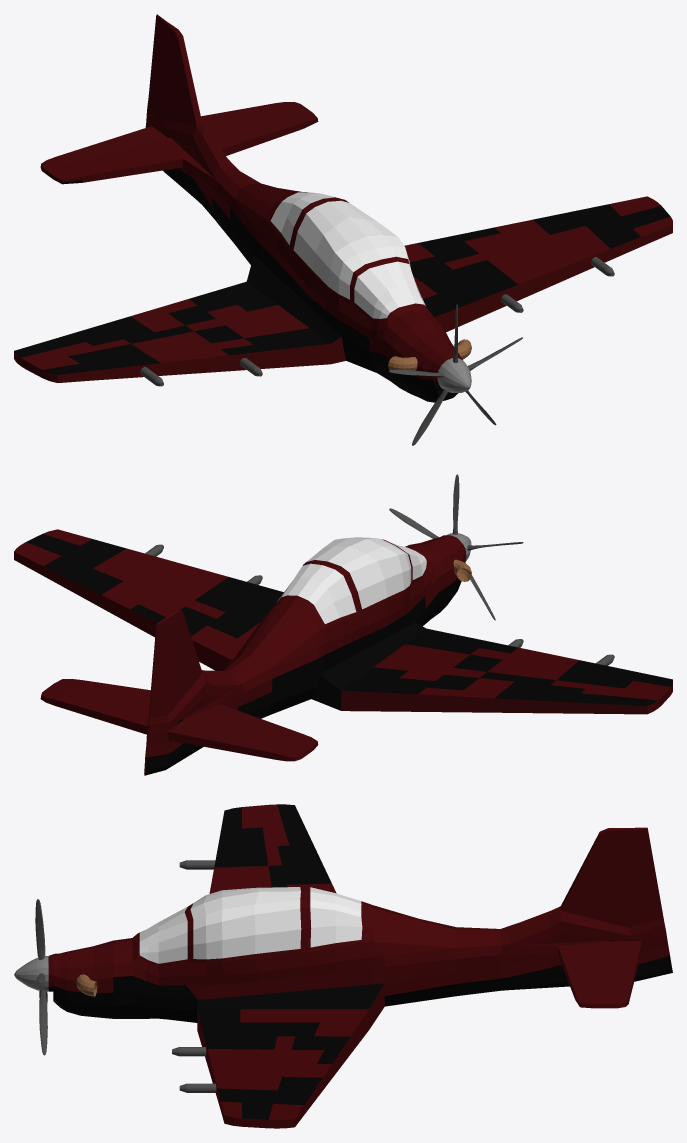
The model's file is Tucaninho player 2.fbx.
The picture shows the model from 3 angles, top to bottom: view 1: azimuth 30°, elevation 25°; view 2: azimuth 150°, elevation 25°; view 3: azimuth 270°, elevation 25°; orthographic projection.
Visible parts, largest first — view 1: BODY, VIDRO, propeler.004, arma, propeler engine; view 2: BODY, VIDRO, propeler.004, arma; view 3: BODY, VIDRO, propeler.004, arma, propeler engine.
Boxes of the visible parts, <box> form: BODY: <box>14,14,672,402</box>; VIDRO: <box>270,192,425,318</box>; propeler.004: <box>389,304,522,445</box>; arma: <box>140,257,614,386</box>; propeler engine: <box>437,358,471,392</box>; BODY: <box>14,529,672,775</box>; VIDRO: <box>277,537,426,623</box>; propeler.004: <box>389,474,523,620</box>; arma: <box>145,544,614,665</box>; BODY: <box>48,804,672,1128</box>; VIDRO: <box>139,887,362,963</box>; propeler.004: <box>35,899,47,1055</box>; arma: <box>172,860,216,1092</box>; propeler engine: <box>14,956,48,991</box>.
Bounding box in the file's own units: 500 × 153 × 441.
